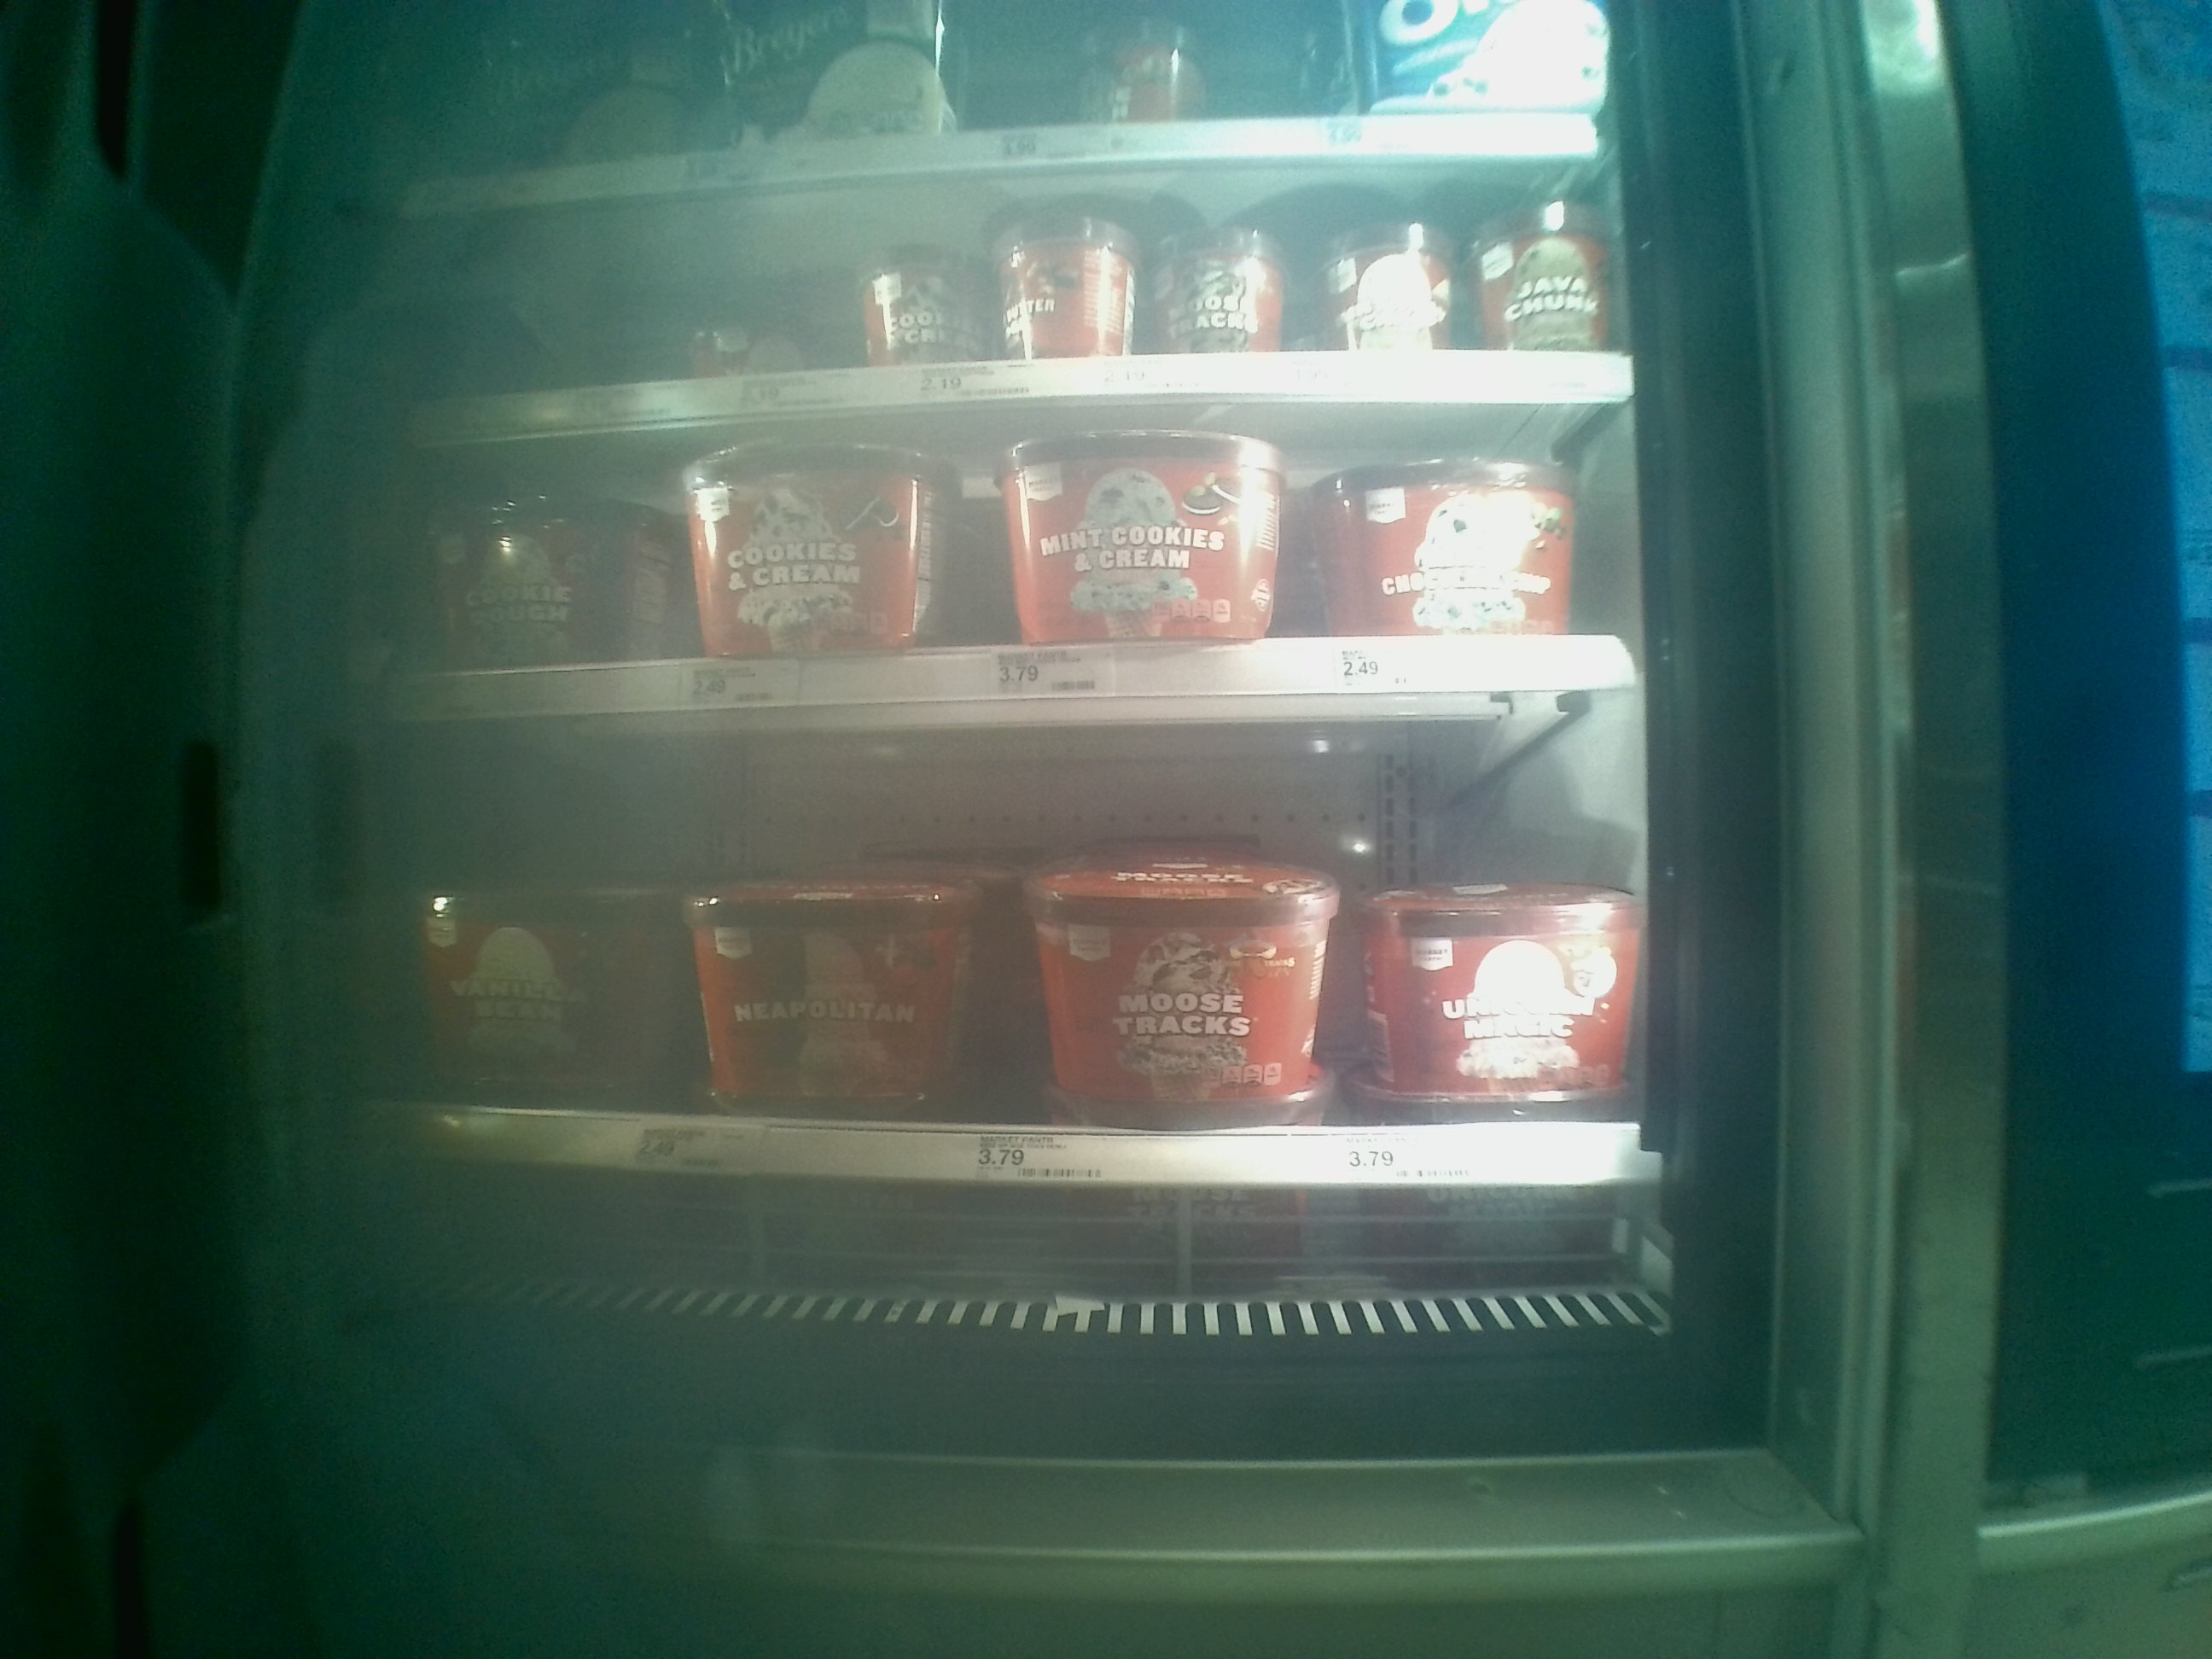shelf: (406, 704, 1651, 1279), (394, 429, 1635, 706), (385, 166, 1635, 420)
